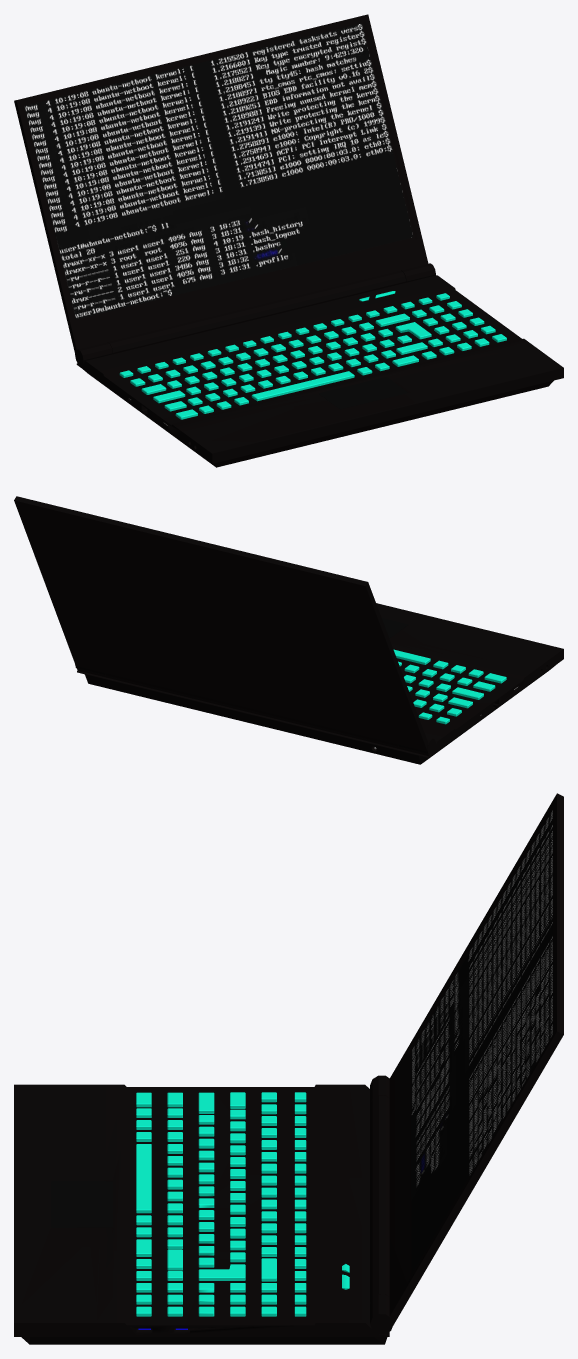
File: laptop.glb
The picture shows the model from 3 angles, top to bottom: view 1: azimuth 30°, elevation 25°; view 2: azimuth 150°, elevation 25°; view 3: azimuth 270°, elevation 25°; orthographic projection. The views are drawn at different scales.
Visible parts, largest first — view 1: pCube134, pCylinder1_phong1_0, pCube4, pCube3_phong2_0, pCube135_phong4_0; view 2: pCube4, pCylinder1_phong1_0, pCube3_phong2_0; view 3: pCylinder1_phong1_0, pCube134, pCube3_phong2_0, pCube4, pCube135_phong4_0, pCylinder3.
Boxes of the visible parts, x1=… form: pCube134: x1=24, y1=23, x2=413, y2=319; pCylinder1_phong1_0: x1=76, y1=270, x2=563, y2=467; pCube4: x1=14, y1=14, x2=428, y2=363; pCube3_phong2_0: x1=119, y1=291, x2=506, y2=419; pCube135_phong4_0: x1=318, y1=377, x2=408, y2=409; pCube4: x1=14, y1=496, x2=429, y2=756; pCylinder1_phong1_0: x1=77, y1=603, x2=563, y2=764; pCube3_phong2_0: x1=393, y1=649, x2=506, y2=724; pCylinder1_phong1_0: x1=14, y1=1084, x2=389, y2=1344; pCube134: x1=411, y1=810, x2=552, y2=1274; pCube3_phong2_0: x1=136, y1=1092, x2=349, y2=1316; pCube4: x1=386, y1=793, x2=563, y2=1334; pCube135_phong4_0: x1=51, y1=1181, x2=112, y2=1227; pCylinder3: x1=370, y1=1294, x2=393, y2=1334.
Bounding box in the file's own units: 3.31 × 2.09 × 3.22.
6 materials, 1 textured.
